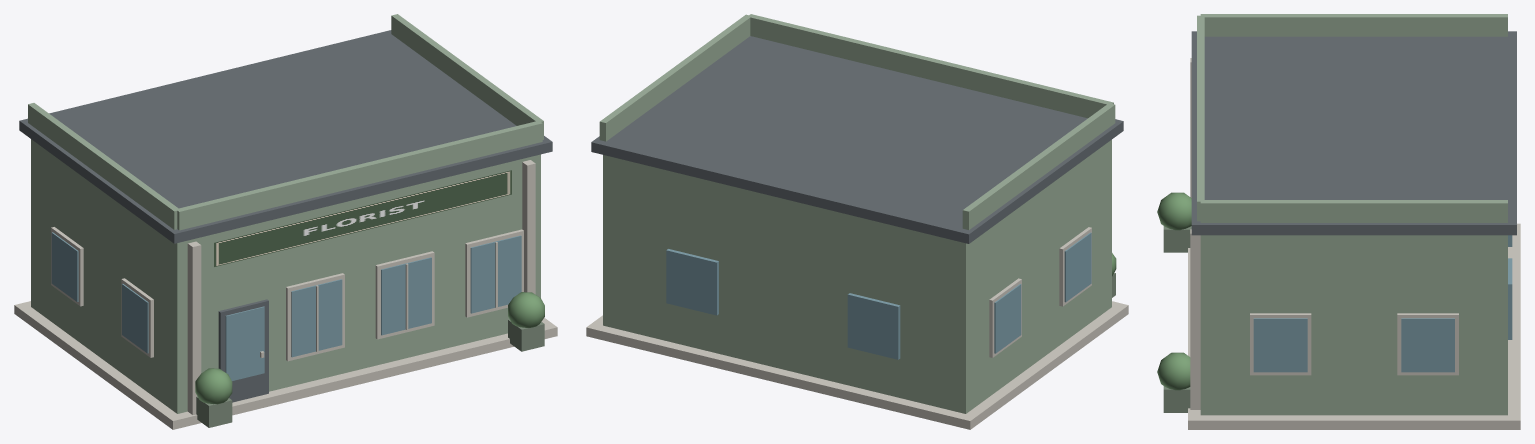
Rendered from florist.glb.
3 renders of one model, left to right at view 1: azimuth 30°, elevation 25°; view 2: azimuth 150°, elevation 25°; view 3: azimuth 270°, elevation 25°, orthographic. The views are drawn at different scales.
Visible parts, largest first — view 1: world; view 2: world; view 3: world.
Part boxes in pixels (bbox=[...]): world: bbox=[14, 14, 557, 429]; world: bbox=[586, 14, 1128, 429]; world: bbox=[1157, 14, 1520, 429].
Bounding box in the file's own units: 9.1 × 4.8 × 7.1.
Materials: 2 (1 with a texture image).
